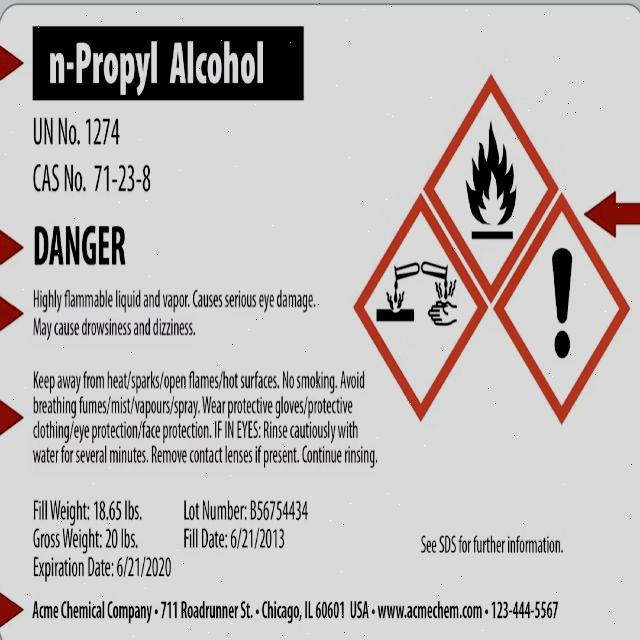cas number: (32, 144, 166, 208)
chemical name: (38, 26, 308, 110)
corrosive: (374, 206, 476, 404)
danger text: (28, 220, 132, 290)
flammable: (429, 106, 552, 262)
irritant: (514, 225, 620, 425)
warning text: (22, 284, 384, 493)
